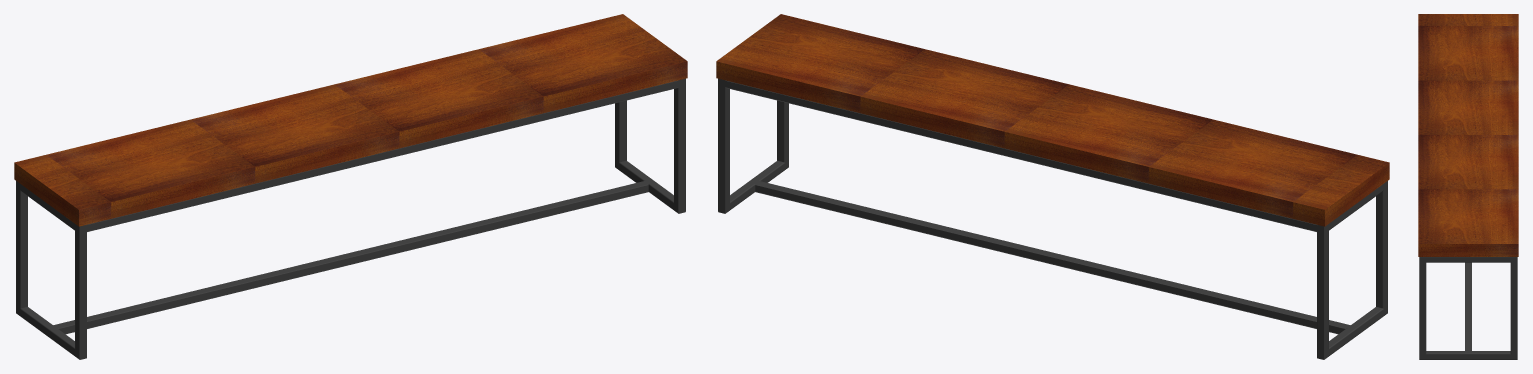
3 views of the same model, side by side, from view 1: azimuth 30°, elevation 25°; view 2: azimuth 150°, elevation 25°; view 3: azimuth 270°, elevation 25° (orthographic). The views are drawn at different scales.
Parts seen in each view (by area): view 1: mesh1_mesh1-geometry, mesh5_mesh5-geometry, mesh3_mesh3-geometry, mesh4_mesh4-geometry; view 2: mesh1_mesh1-geometry, mesh5_mesh5-geometry, mesh3_mesh3-geometry, mesh4_mesh4-geometry; view 3: mesh1_mesh1-geometry, mesh4_mesh4-geometry, mesh5_mesh5-geometry.
Boxes of the visible parts, <box> form: mesh1_mesh1-geometry: <box>14,14,687,226</box>; mesh5_mesh5-geometry: <box>53,80,678,334</box>; mesh3_mesh3-geometry: <box>16,181,86,359</box>; mesh4_mesh4-geometry: <box>615,78,685,213</box>; mesh1_mesh1-geometry: <box>716,14,1389,226</box>; mesh5_mesh5-geometry: <box>725,80,1350,334</box>; mesh3_mesh3-geometry: <box>1317,181,1387,359</box>; mesh4_mesh4-geometry: <box>718,78,788,213</box>; mesh1_mesh1-geometry: <box>1418,14,1518,256</box>; mesh4_mesh4-geometry: <box>1419,257,1517,359</box>; mesh5_mesh5-geometry: <box>1465,262,1471,350</box>.
Size of the model in its own units: 0.9578 by 0.2269 by 0.1764.
